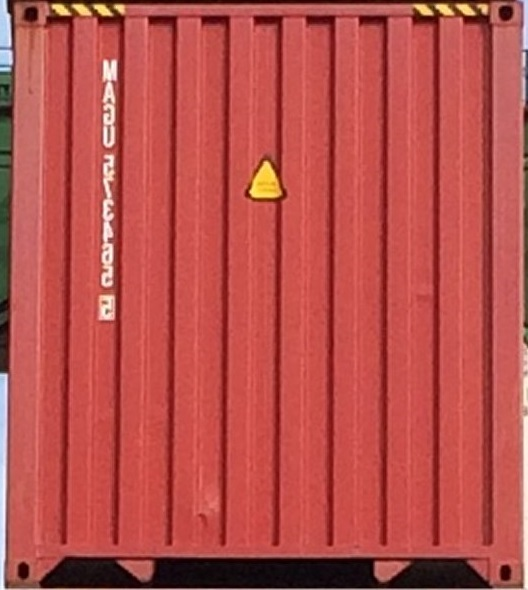container_no_door: (6, 1, 524, 590)
